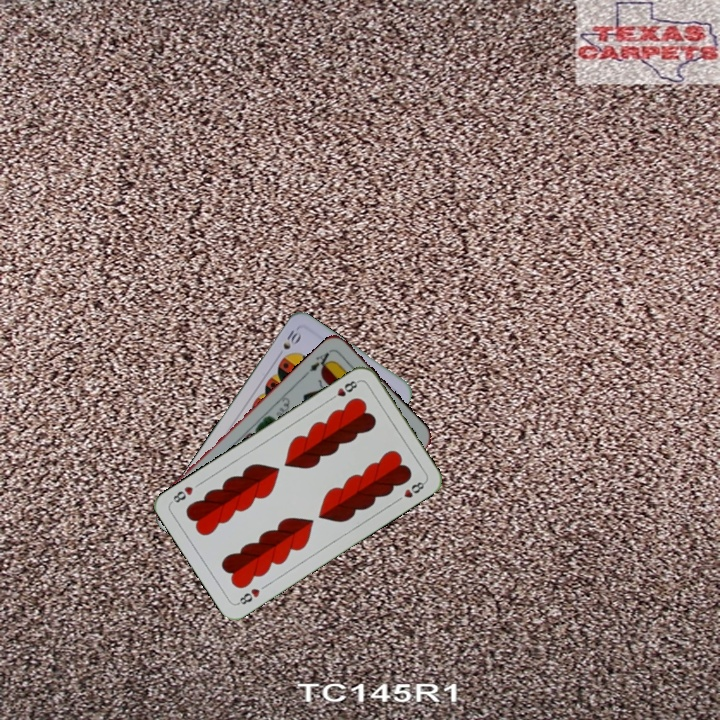EA: (305, 346, 336, 374)
H8: (325, 376, 362, 403), (233, 584, 263, 607)
S10: (279, 325, 303, 352)
